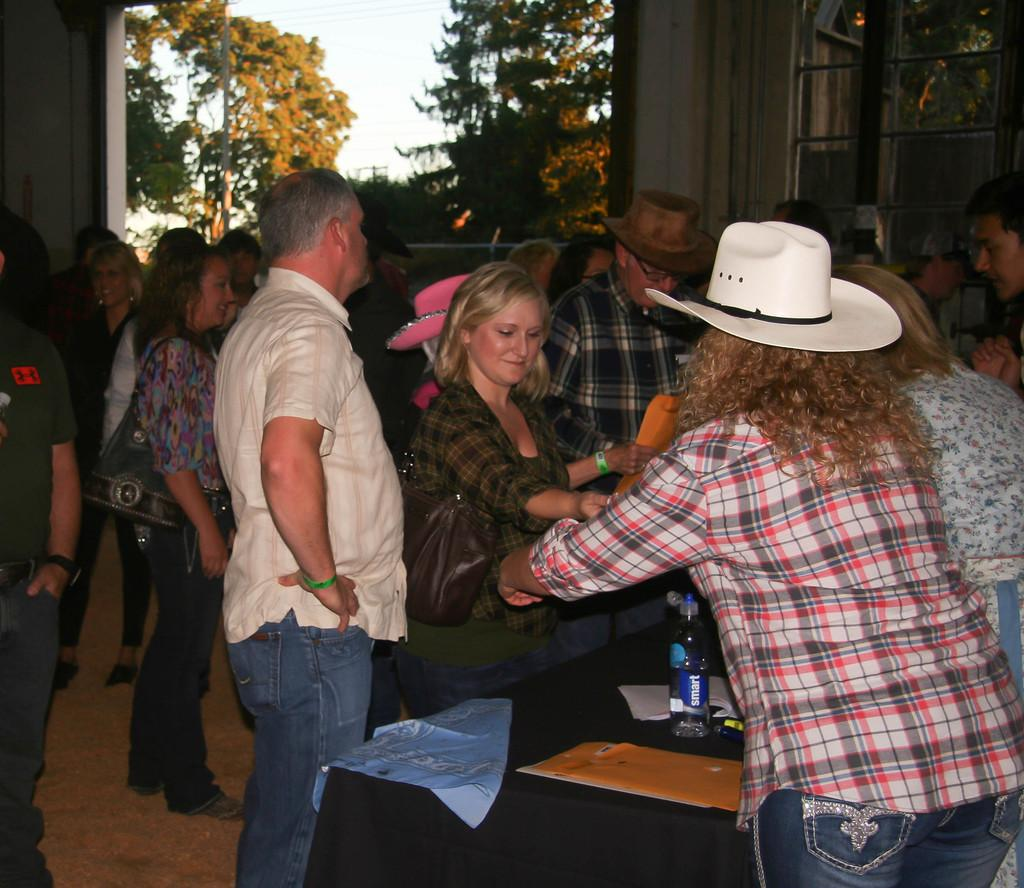Hat: (642, 211, 902, 354), (600, 188, 717, 282)
